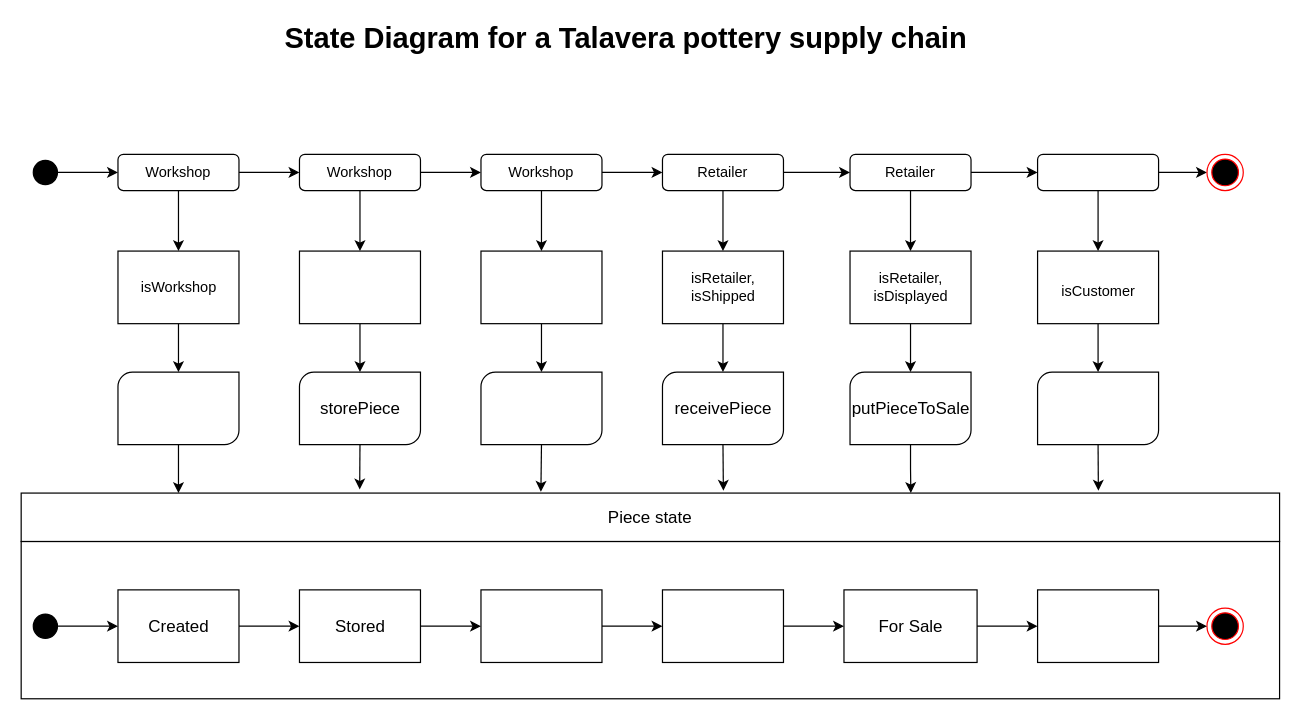
The diagram is 1301 pixels wide and 720 high, and some of its shapes have lost their labels. The shapes that lost their labels are listed below. From the top down, each one's box as (x1, y1, x2, y2) in pixels, then its label:
(1036, 153, 1159, 191): Customer
(298, 250, 420, 324): is Workshop, isMade
(480, 250, 602, 324): is Workshop, isStored
(117, 371, 239, 445): makePiece
(480, 371, 602, 445): shipPiece
(1036, 371, 1159, 445): buyPiece
(480, 589, 602, 662): Shipped
(661, 589, 783, 662): Received
(1036, 589, 1159, 662): Purchased
